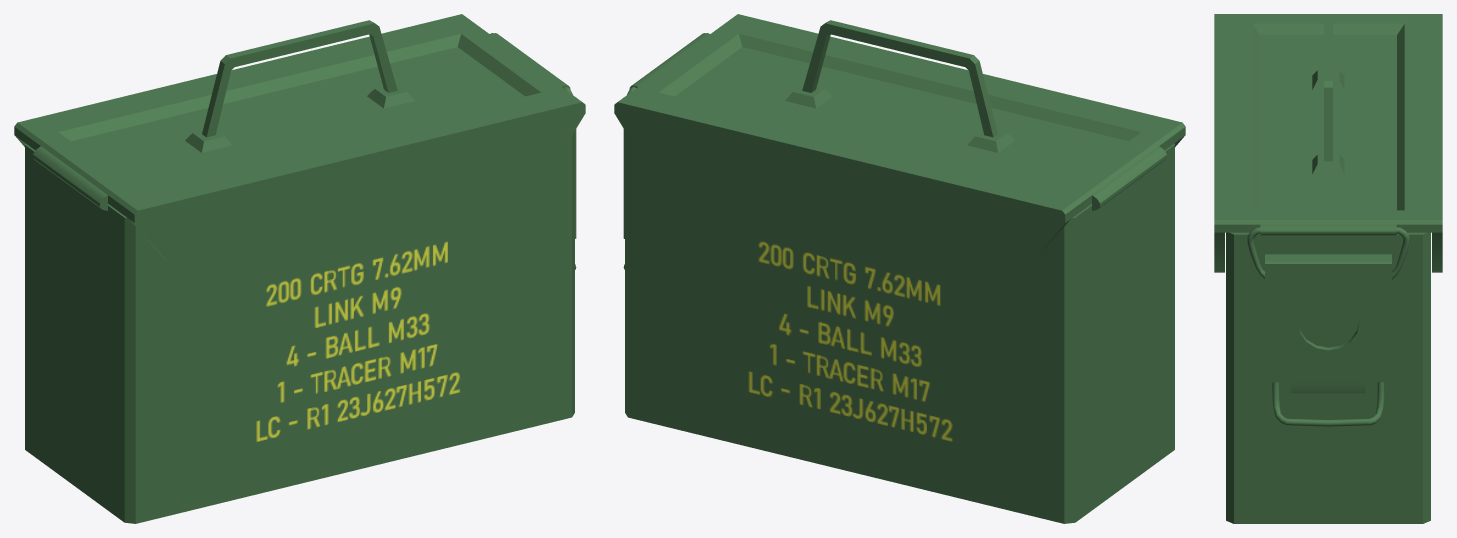
The model's file is ammobox.fbx.
The picture shows the model from 3 angles, left to right: view 1: azimuth 30°, elevation 25°; view 2: azimuth 150°, elevation 25°; view 3: azimuth 270°, elevation 25°; orthographic projection. The views are drawn at different scales.
Visible parts, largest first — view 1: ammobox; view 2: ammobox; view 3: ammobox.
Boxes of the visible parts, bbox=[...] form: ammobox: bbox=[14, 14, 585, 523]; ammobox: bbox=[614, 14, 1185, 523]; ammobox: bbox=[1214, 14, 1442, 523].
Size of the model in its own units: 196 by 151 by 83.99.
